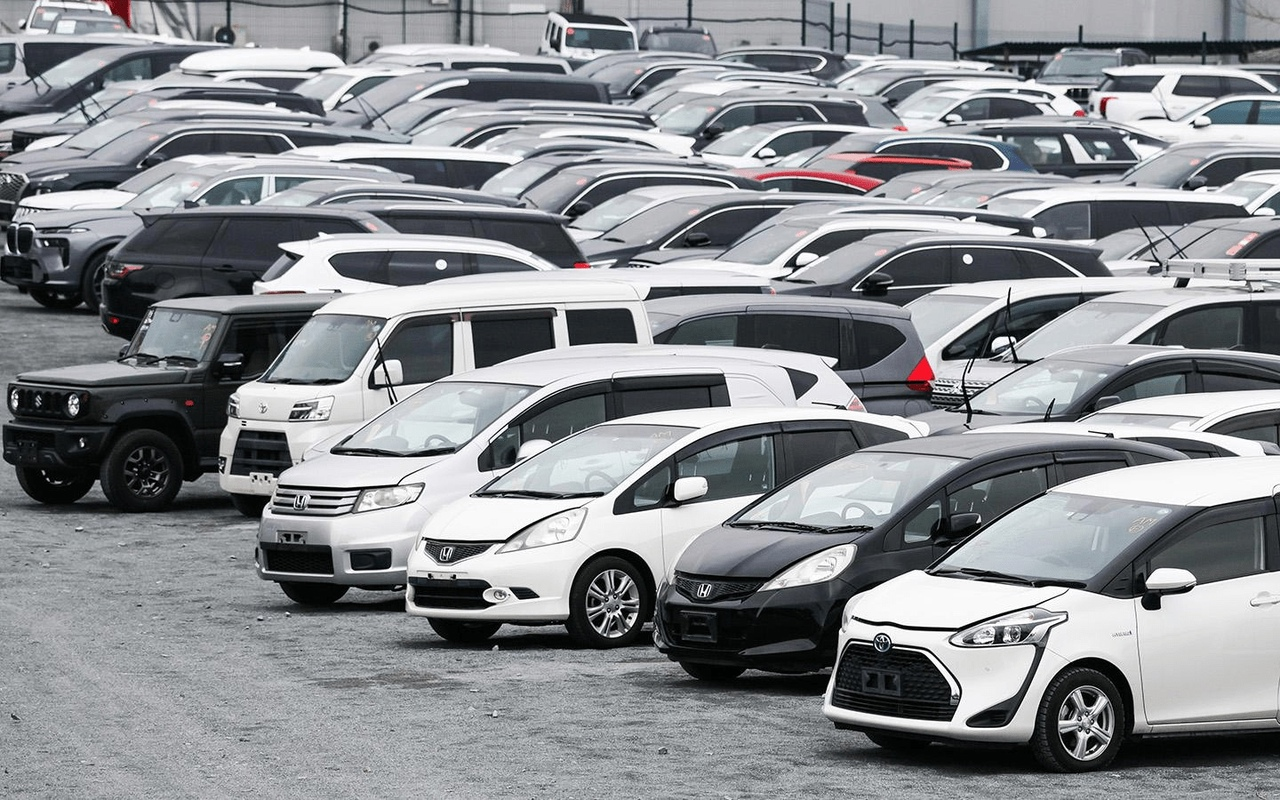Car: (822, 458, 1280, 771), (255, 353, 796, 605), (652, 433, 1181, 683), (406, 407, 931, 648), (219, 279, 652, 517), (2, 294, 340, 512), (302, 343, 869, 461), (0, 161, 415, 316), (933, 261, 1280, 407), (0, 119, 413, 233), (99, 206, 401, 340), (645, 295, 932, 417), (913, 345, 1280, 433), (626, 199, 1035, 268), (575, 192, 904, 269), (906, 277, 1170, 370), (775, 233, 1111, 305), (661, 216, 1020, 281), (0, 108, 335, 174), (10, 87, 326, 155), (316, 192, 594, 268), (12, 153, 327, 220), (252, 234, 565, 294), (0, 44, 227, 122), (325, 67, 611, 128), (979, 185, 1254, 246), (518, 162, 765, 228), (23, 100, 308, 152), (654, 94, 871, 157), (922, 120, 1141, 178), (1104, 216, 1280, 288), (566, 185, 780, 244), (429, 269, 776, 304), (1084, 63, 1280, 123), (0, 80, 147, 160), (275, 143, 525, 190), (479, 149, 708, 200), (1073, 389, 1280, 444), (968, 423, 1280, 459), (135, 45, 347, 94), (700, 121, 891, 173), (799, 131, 1040, 172), (407, 99, 661, 136), (629, 67, 838, 111), (0, 35, 148, 96), (724, 83, 907, 132), (1124, 92, 1280, 148), (590, 56, 766, 105), (1108, 143, 1280, 192), (412, 113, 642, 148), (1008, 115, 1175, 163), (253, 179, 518, 208), (838, 67, 1025, 108), (477, 124, 696, 158), (892, 79, 1085, 117), (1036, 46, 1150, 110), (900, 90, 1062, 133), (293, 65, 439, 112), (863, 169, 1069, 202), (905, 178, 1093, 207), (649, 80, 784, 120), (539, 12, 638, 66), (801, 151, 973, 179), (726, 168, 888, 197), (715, 46, 849, 81), (831, 59, 995, 87), (361, 99, 494, 133), (369, 54, 573, 75), (494, 135, 658, 161), (575, 51, 717, 79), (1089, 225, 1186, 263), (351, 43, 518, 65), (18, 0, 112, 36), (1212, 169, 1280, 216), (639, 25, 718, 57), (96, 31, 231, 47), (50, 14, 127, 36), (766, 145, 831, 168), (1227, 64, 1280, 92), (0, 113, 61, 132), (844, 53, 900, 67)
